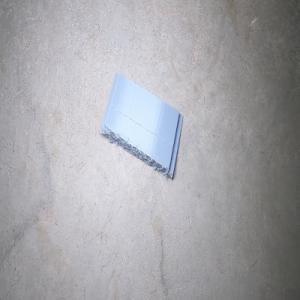PlasticPart: (98, 71, 183, 180)
